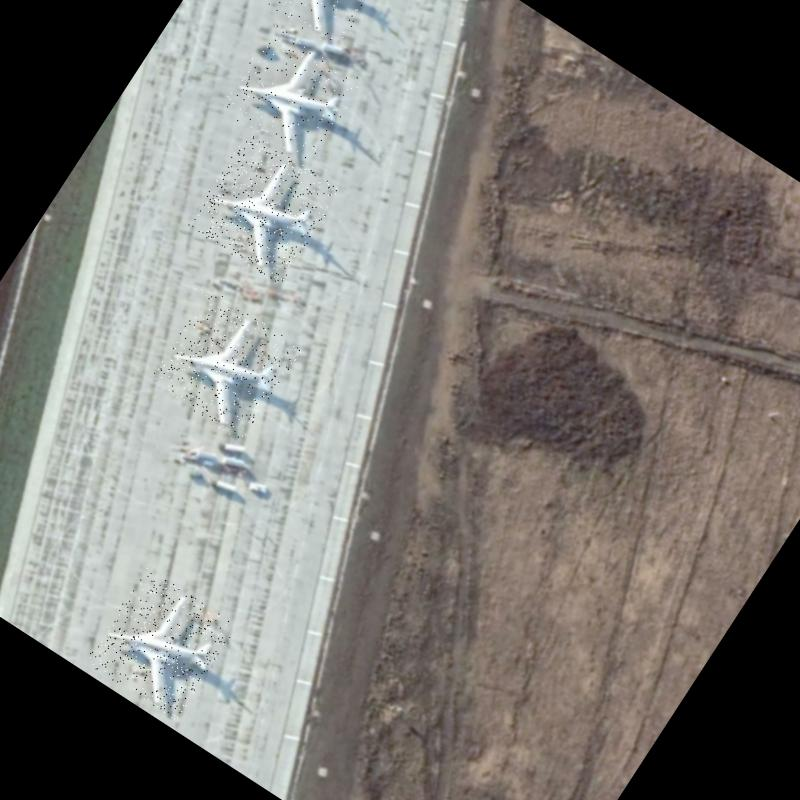A6: (187, 130, 342, 286), (148, 288, 303, 444), (84, 566, 238, 722), (219, 24, 363, 167), (245, 0, 396, 51)
